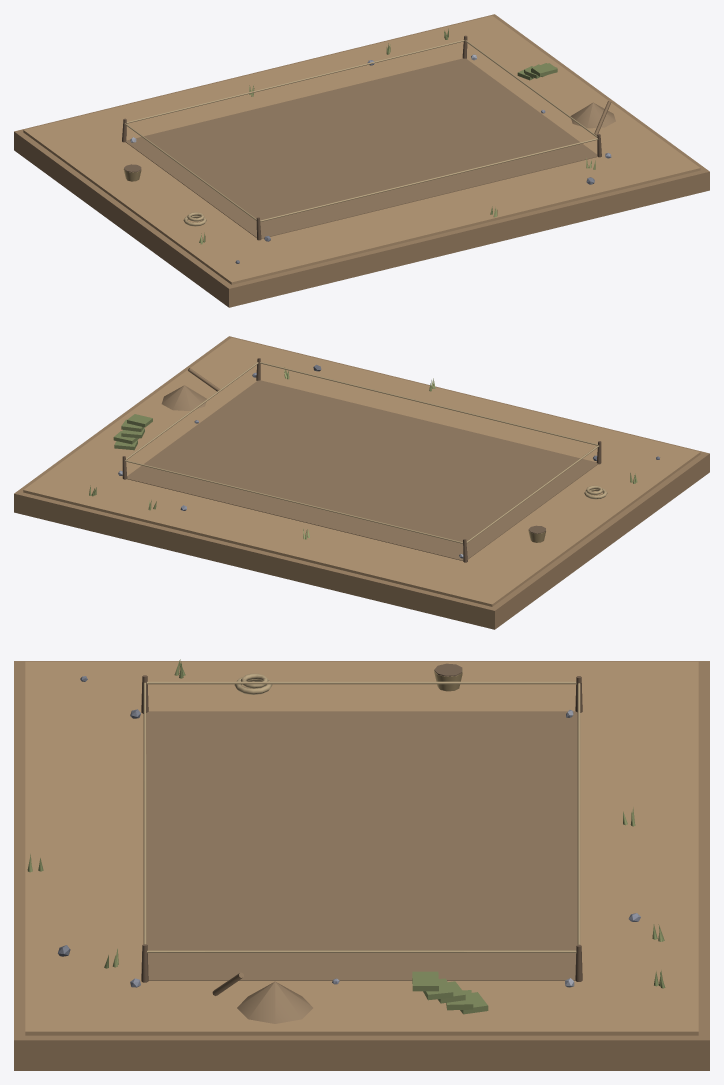
File: townhall-site.glb
The picture shows the model from 3 angles, top to bottom: view 1: azimuth 30°, elevation 25°; view 2: azimuth 150°, elevation 25°; view 3: azimuth 270°, elevation 25°; orthographic projection. The views are drawn at different scales.
Visible parts, largest first — view 1: era1; view 2: era1; view 3: era1.
Boxes of the visible parts, left/top/right/bottom form: era1: left=14, top=14, right=709, bottom=307; era1: left=14, top=336, right=709, bottom=629; era1: left=14, top=659, right=709, bottom=1070.
Bounding box in the file's own units: 24 × 2.18 × 18.6.
